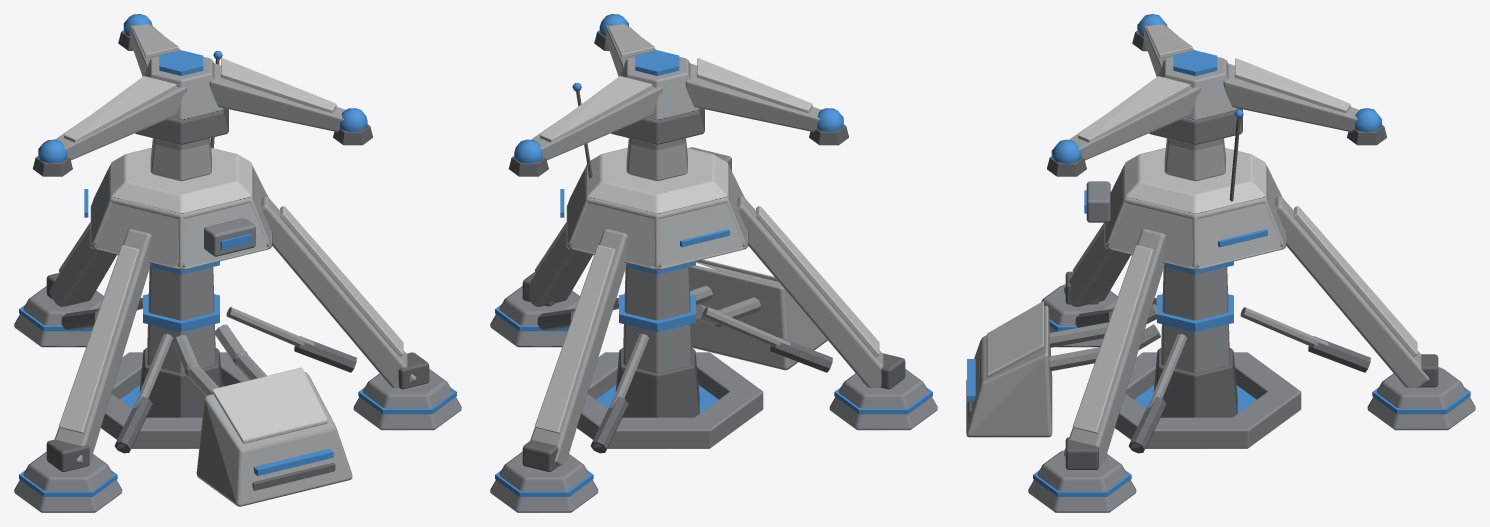
File: lattice_metal_extractor.glb
The picture shows the model from 3 angles, left to right: view 1: azimuth 30°, elevation 25°; view 2: azimuth 150°, elevation 25°; view 3: azimuth 270°, elevation 25°; orthographic projection.
Visible parts, largest first — view 1: Body, Rotor_Y; view 2: Body, Rotor_Y; view 3: Body, Rotor_Y.
Boxes of the visible parts, x1,y1,x2,y2 form: Body: (14,51,461,512); Rotor_Y: (32,14,372,176); Body: (490,83,937,512); Rotor_Y: (508,14,848,176); Body: (966,108,1475,512); Rotor_Y: (1047,14,1386,176).
Bounding box in the file's own units: 6.15 × 4.86 × 6.42.
